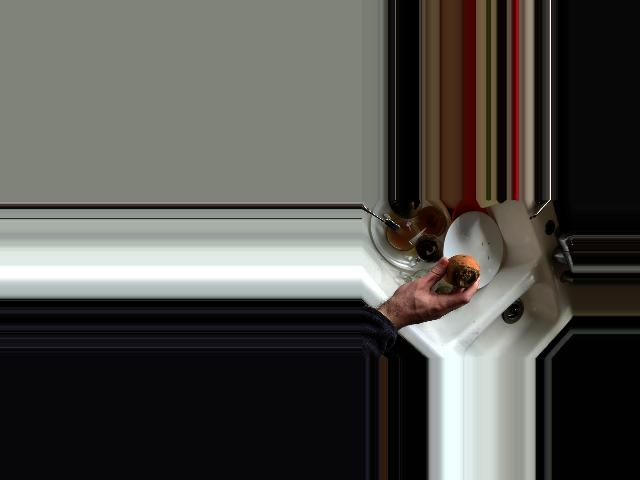sweet_potato: (436, 253, 481, 289)
